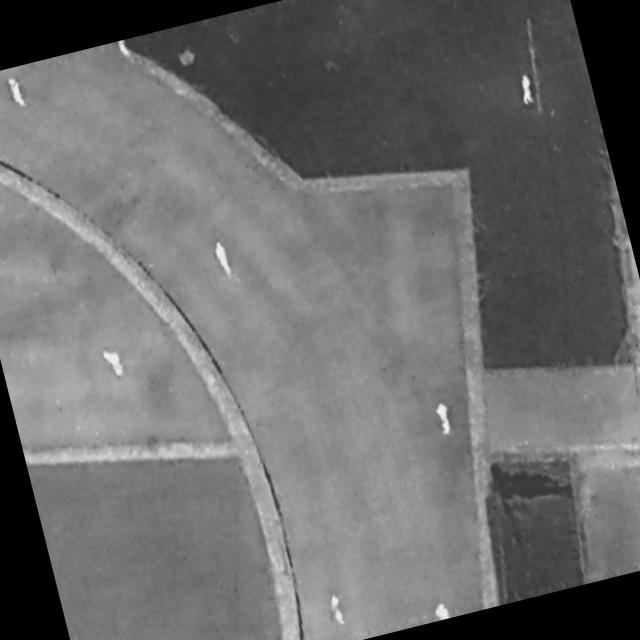person: (99, 341, 132, 383), (209, 238, 237, 279), (434, 401, 455, 436), (8, 76, 28, 111), (328, 594, 349, 627), (520, 74, 535, 105), (117, 39, 134, 62), (432, 602, 450, 621)
